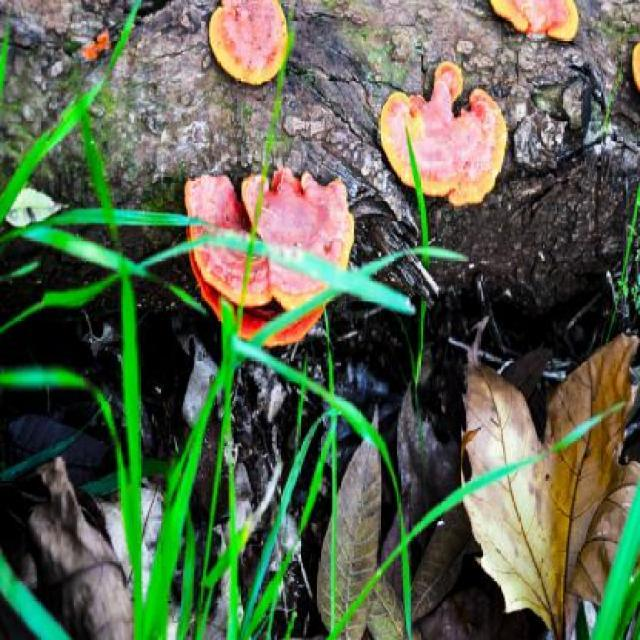Mushroom: (184, 167, 353, 347), (377, 64, 515, 224), (209, 0, 289, 86), (484, 0, 580, 40), (632, 44, 640, 90)
